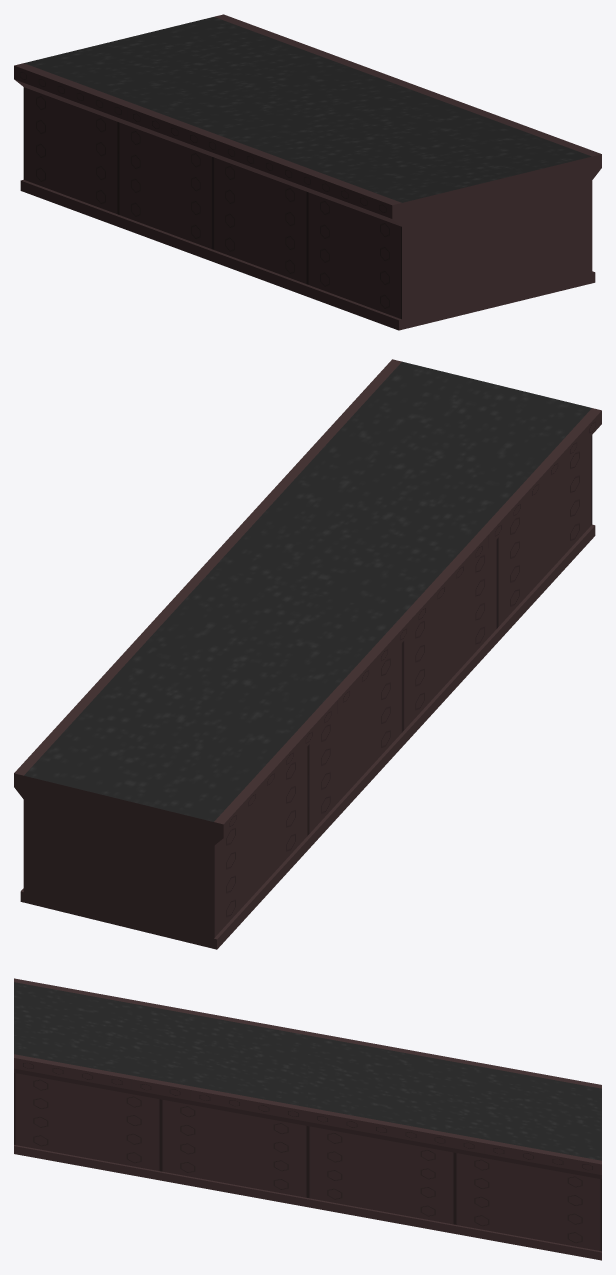
The model's file is SW_ENV_EL_TrackBase_Rise_10m.fbx.
The picture shows the model from 3 angles, top to bottom: view 1: azimuth 30°, elevation 25°; view 2: azimuth 150°, elevation 25°; view 3: azimuth 270°, elevation 25°; orthographic projection. The views are drawn at different scales.
Parts seen in each view (by area): view 1: SW_ENV_EL_TrackBase_Rise_10m; view 2: SW_ENV_EL_TrackBase_Rise_10m; view 3: SW_ENV_EL_TrackBase_Rise_10m.
Boxes of the visible parts, x1,y1,x2,y2 form: SW_ENV_EL_TrackBase_Rise_10m: (14, 14, 601, 330); SW_ENV_EL_TrackBase_Rise_10m: (14, 359, 601, 949); SW_ENV_EL_TrackBase_Rise_10m: (14, 978, 601, 1260).
Size of the model in its own units: 320 by 385 by 1000.
